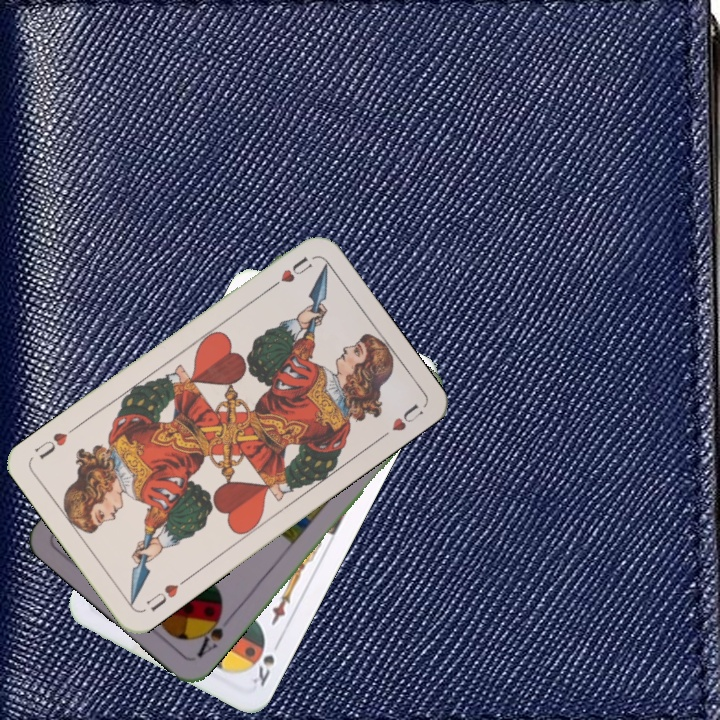HU: (264, 252, 315, 293), (142, 574, 190, 615)
SA: (192, 606, 226, 660)
SK: (248, 635, 284, 689)
